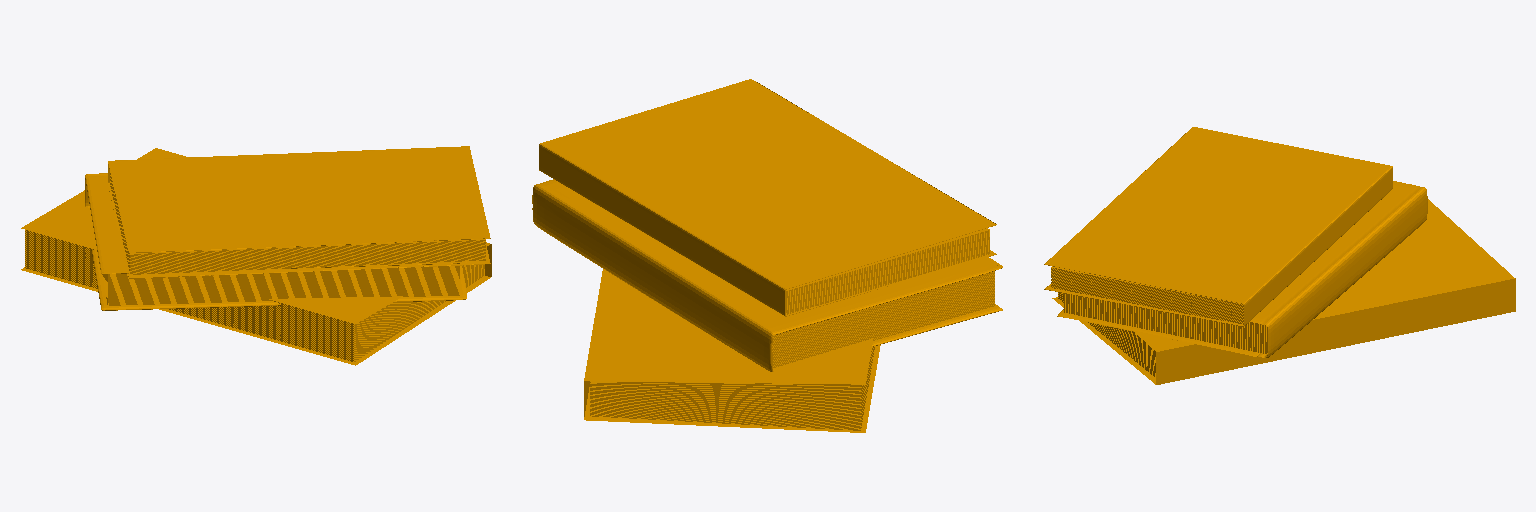
The robot description file, URDF, robot "object":
<?xml version="1.0"?>
<robot name="object">
  <link name="object">
    <visual>
      <origin xyz="0 0 0"/>
      <geometry>
        <mesh filename="mesh/book2.obj"/>
      </geometry>
    </visual>
    <!-- <collision>
      <origin xyz="0 0 0"/>
      <geometry>
        <mesh filename="mesh/model1.obj"/>
      </geometry>
    </collision> -->
     <inertial>
      <mass value="0.5"/>
      <inertia ixx="0.2" ixy="0.0" ixz="0.0" iyy="0.2" iyz="0.0" izz="0.2"/>
    </inertial>
  </link>
</robot>

--- Facts derived from the render (not from the file) ---
3 views of the same robot in one strip: view 1: azimuth 30°, elevation 25°; view 2: azimuth 150°, elevation 25°; view 3: azimuth 270°, elevation 25° (orthographic).
Model object with 1 links and 0 joints (none), rooted at object, posed every joint at zero.
Links seen in each view (by area): view 1: object; view 2: object; view 3: object.
Boxes of the visible links, x1,y1,x2,y2 form: object: (21, 146, 491, 365); object: (532, 79, 1002, 432); object: (1044, 127, 1515, 384).
Bounding box of the posed robot: 0.3123 × 0.3374 × 0.0768 m (x, y, z).
Meshes: 1 distinct files referenced, 1 mesh visuals loaded (1 OBJ).